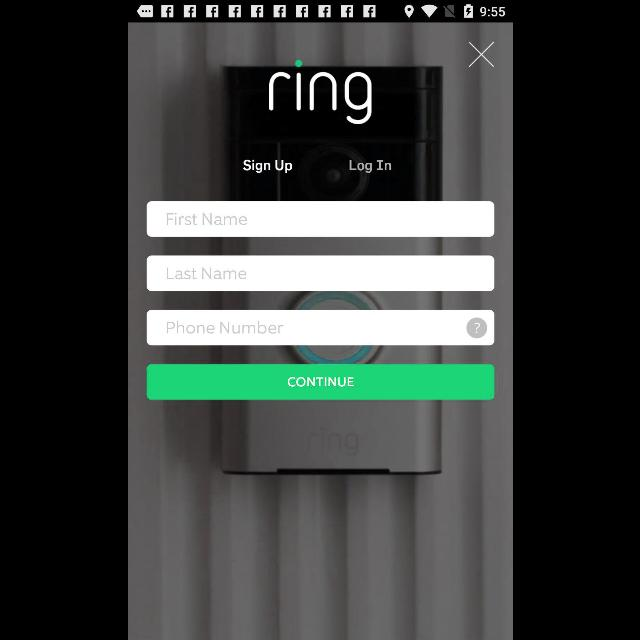backgroundimage: (128, 22, 512, 640)
icon: (468, 42, 494, 68), (466, 317, 486, 338)
image: (268, 59, 372, 124)
input: (146, 201, 494, 237), (146, 255, 494, 291), (146, 310, 494, 346)
text: (166, 321, 282, 334), (166, 213, 246, 225), (167, 268, 246, 280), (242, 160, 292, 174), (349, 160, 391, 174)
textbutton: (146, 364, 494, 400)
uppertaskbar: (128, 1, 512, 23)
